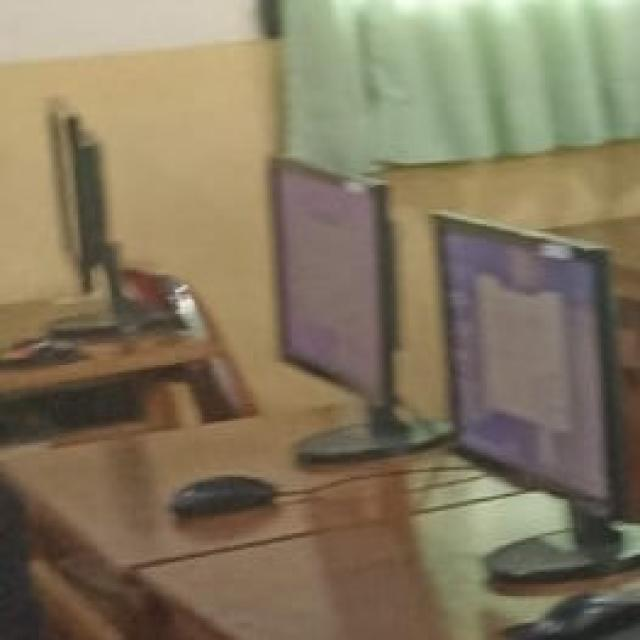onscreen: (438, 213, 620, 509), (274, 160, 377, 393)
